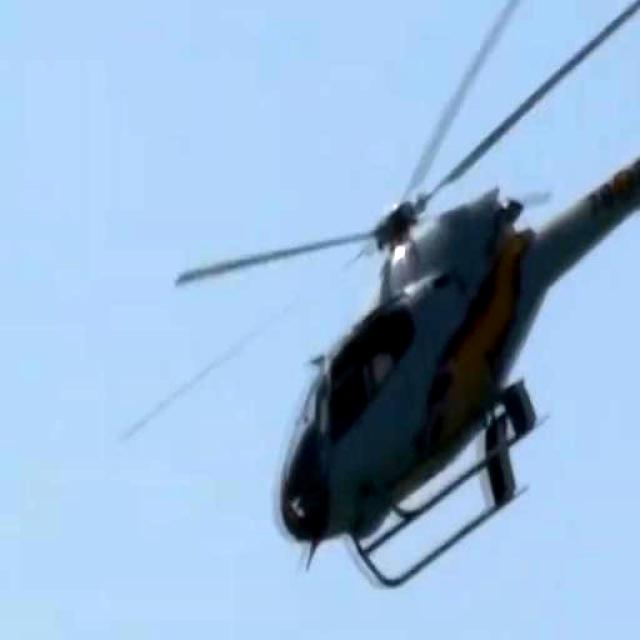drone: (220, 0, 640, 611)
